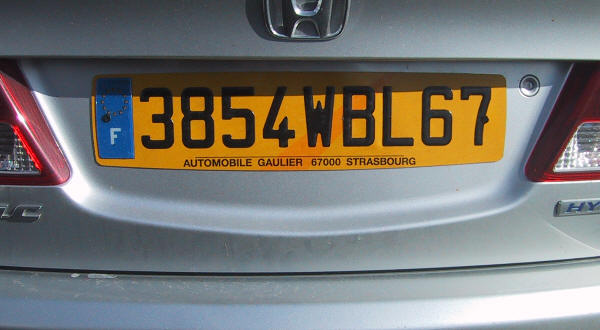license_plate: (91, 73, 508, 172)
